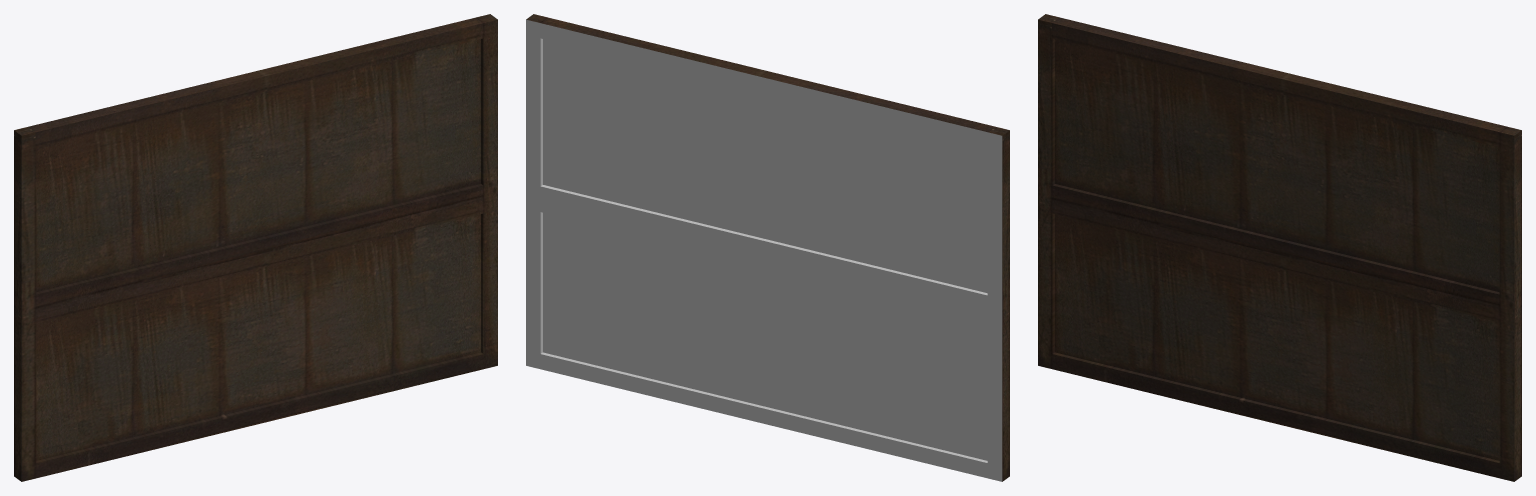
File: metal_fence_hr_1.obj
3 views of the same model, side by side, from view 1: azimuth 30°, elevation 25°; view 2: azimuth 150°, elevation 25°; view 3: azimuth 330°, elevation 25° (orthographic).
Parts seen in each view (by area): view 1: metal_fence_hr_1; view 2: metal_fence_hr_1; view 3: metal_fence_hr_1.
Part boxes in pixels (box(x1,y1,x2,y2)): metal_fence_hr_1: box(14, 14, 497, 481); metal_fence_hr_1: box(526, 14, 1009, 481); metal_fence_hr_1: box(1038, 14, 1521, 481).
Bounding box in the file's own units: 3.6 × 2.5 × 0.1.
